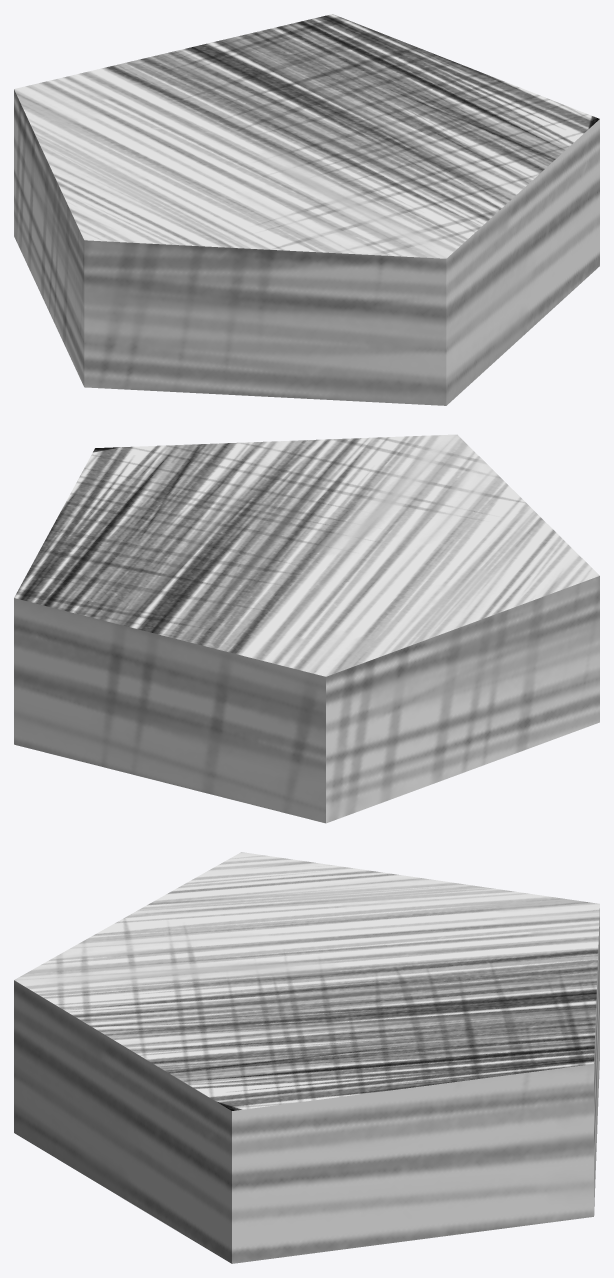
File: stone1.fbx
3 views of the same model, one above another, from view 1: azimuth 30°, elevation 25°; view 2: azimuth 150°, elevation 25°; view 3: azimuth 270°, elevation 25° (orthographic). The views are drawn at different scales.
Parts seen in each view (by area): view 1: Stone1; view 2: Stone1; view 3: Stone1.
Boxes of the visible parts, left/top/right/bottom form: Stone1: left=14, top=14, right=599, bottom=405; Stone1: left=14, top=434, right=599, bottom=823; Stone1: left=14, top=852, right=599, bottom=1263.
Bounding box in the file's own units: 190 × 52.31 × 182.
